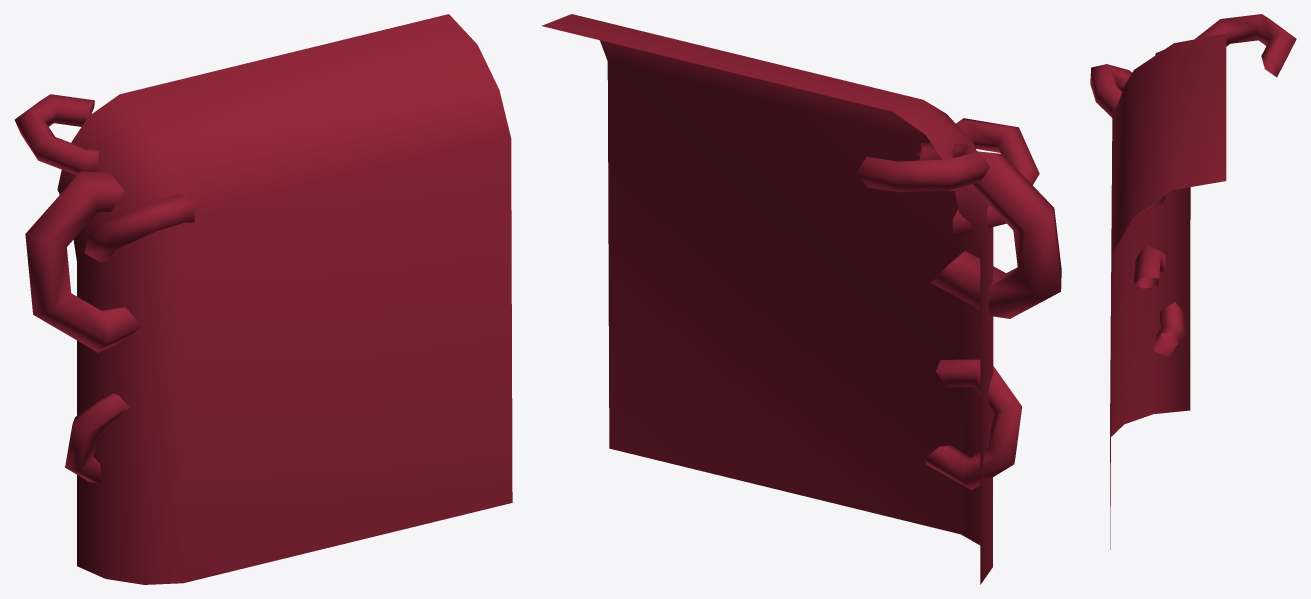
File: Surface_CornerWallRoad.fbx
3 renders of one model, left to right at view 1: azimuth 30°, elevation 25°; view 2: azimuth 150°, elevation 25°; view 3: azimuth 270°, elevation 25°, orthographic. The views are drawn at different scales.
Parts seen in each view (by area): view 1: Surface_CornerWallRoad; view 2: Surface_CornerWallRoad; view 3: Surface_CornerWallRoad.
Part boxes in pixels (left/top/right/bottom): Surface_CornerWallRoad: left=14, top=14, right=512, bottom=584; Surface_CornerWallRoad: left=542, top=14, right=1061, bottom=584; Surface_CornerWallRoad: left=1090, top=14, right=1296, bottom=549.
Bounding box in the file's own units: 2456 × 2300 × 1066.
